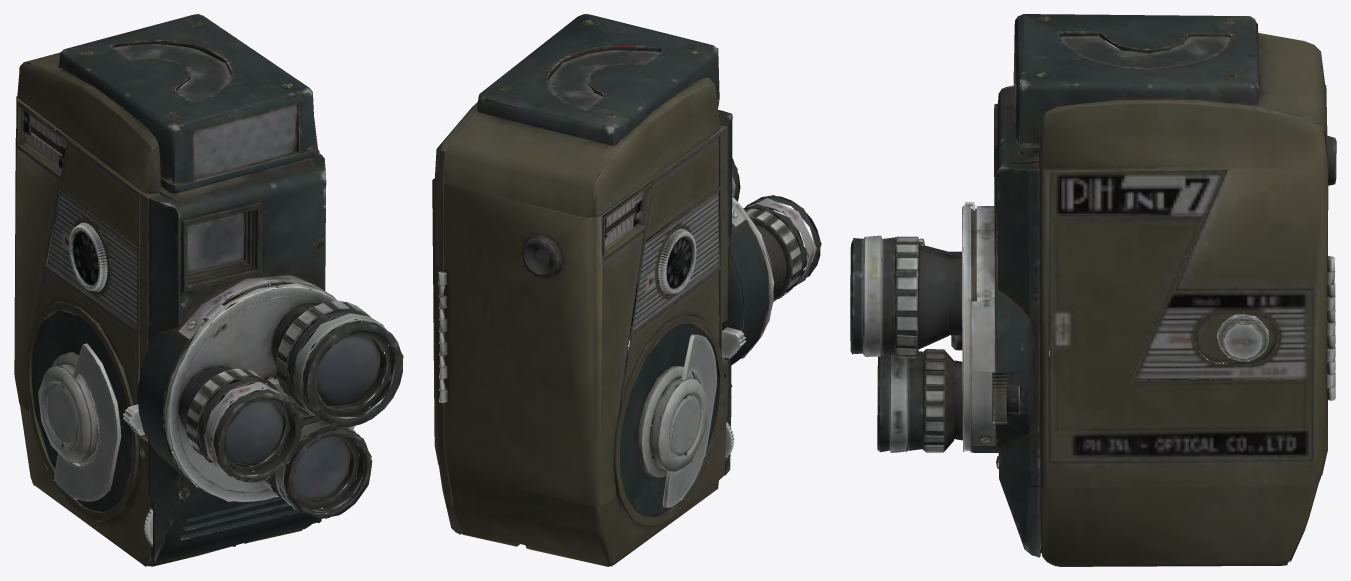
File: vintage_video_camera.glb
3 views of the same model, side by side, from view 1: azimuth 30°, elevation 25°; view 2: azimuth 150°, elevation 25°; view 3: azimuth 270°, elevation 25° (orthographic). The views are drawn at different scales.
Visible parts, largest first — view 1: vintage_video_camera; view 2: vintage_video_camera; view 3: vintage_video_camera.
Boxes of the visible parts, x1,y1,x2,y2 form: vintage_video_camera: (14,14,403,566); vintage_video_camera: (432,14,821,566); vintage_video_camera: (850,14,1336,566).
Bounding box in the file's own units: 0.0712 × 0.145 × 0.1326.
2 materials, 2 textured.
